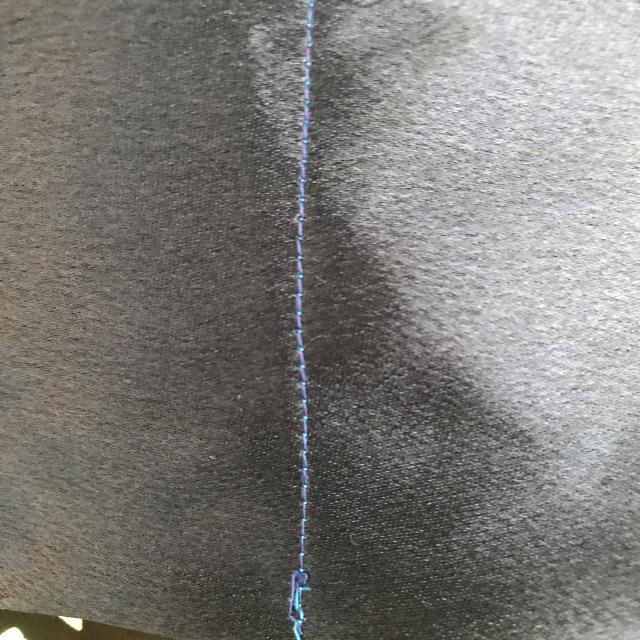good: (282, 290, 324, 541)
